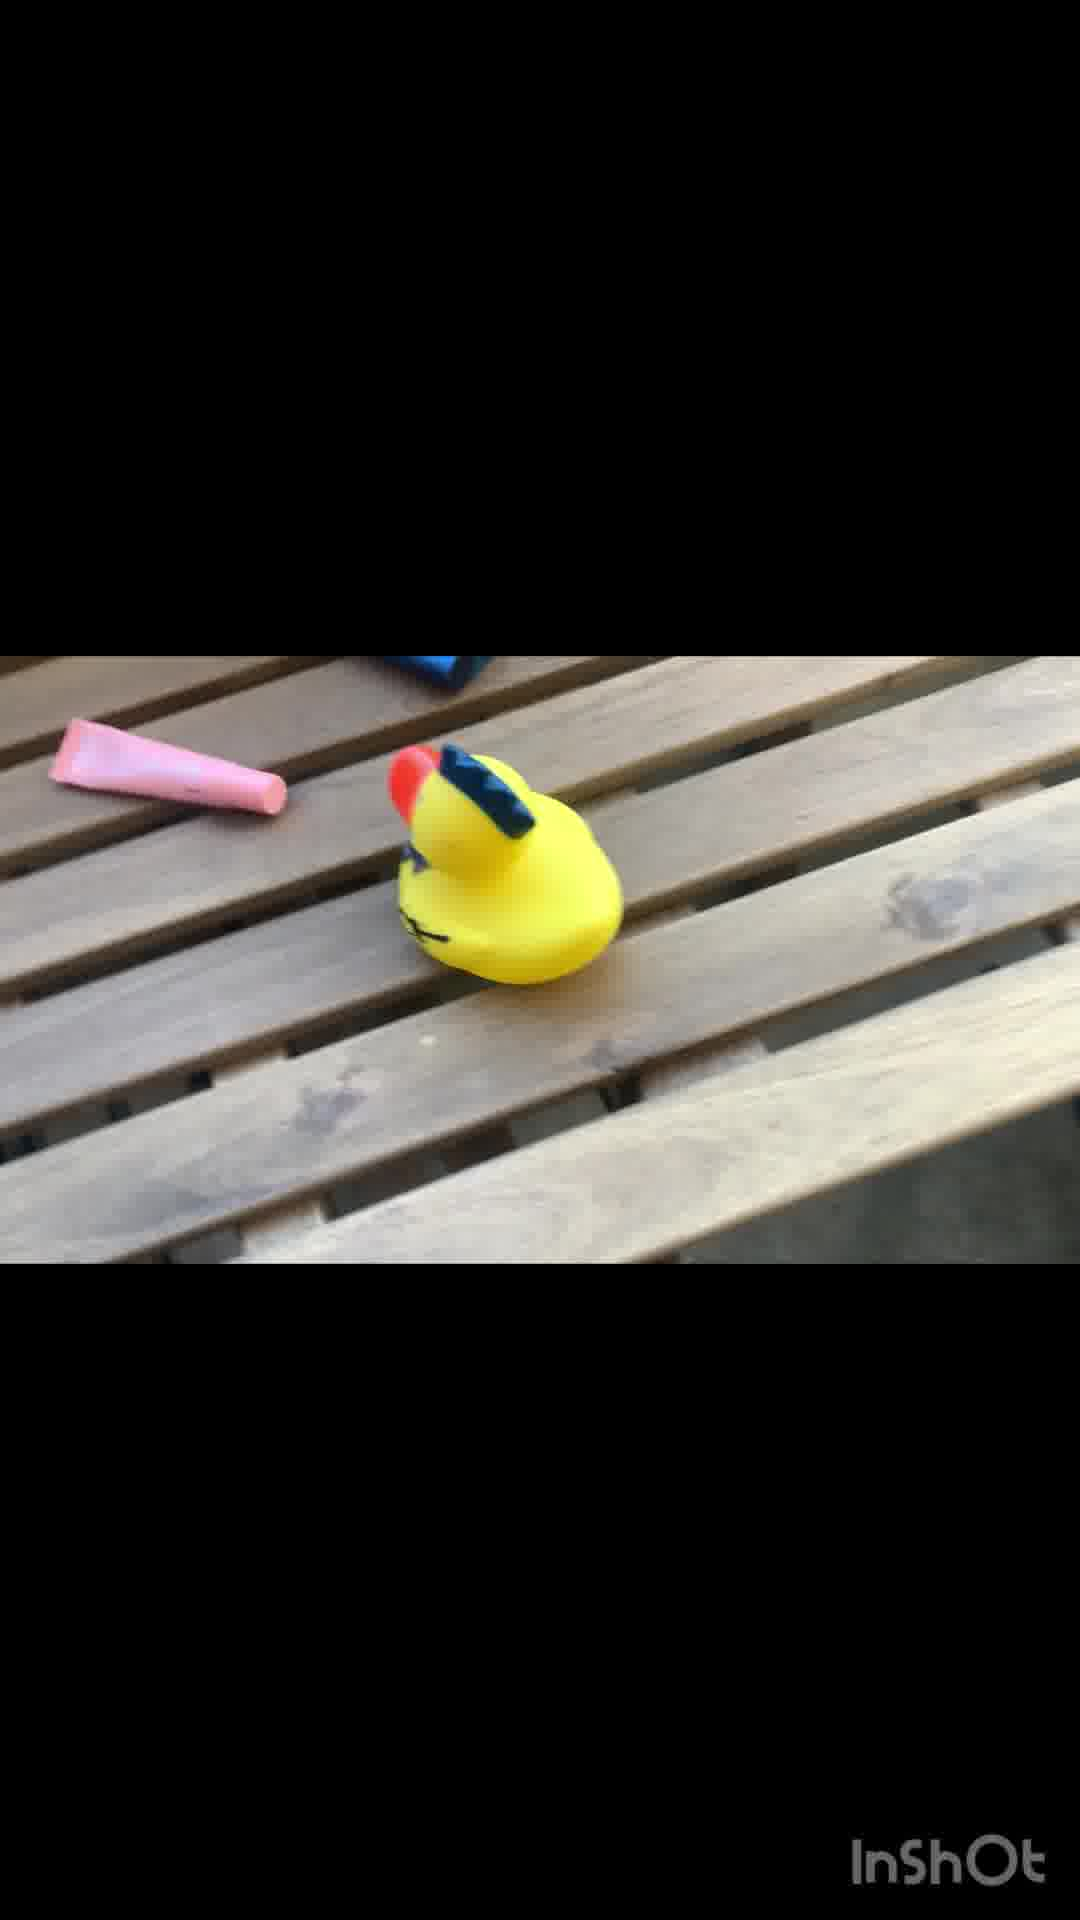duck: (367, 749, 659, 993)
glo: (377, 646, 495, 690)
lip balm: (55, 711, 291, 836)
